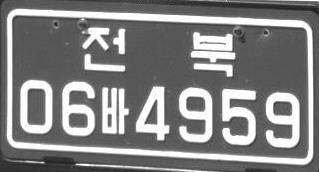0: (19, 78, 52, 134)
4: (135, 85, 169, 141)
5: (221, 86, 257, 145)
6: (61, 80, 96, 137)
9: (176, 87, 214, 144), (264, 90, 300, 147)
바: (102, 87, 129, 136)
전북_D: (80, 26, 235, 77)
